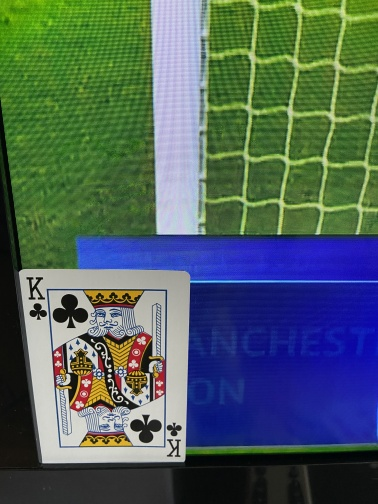king: (17, 268, 192, 465)
